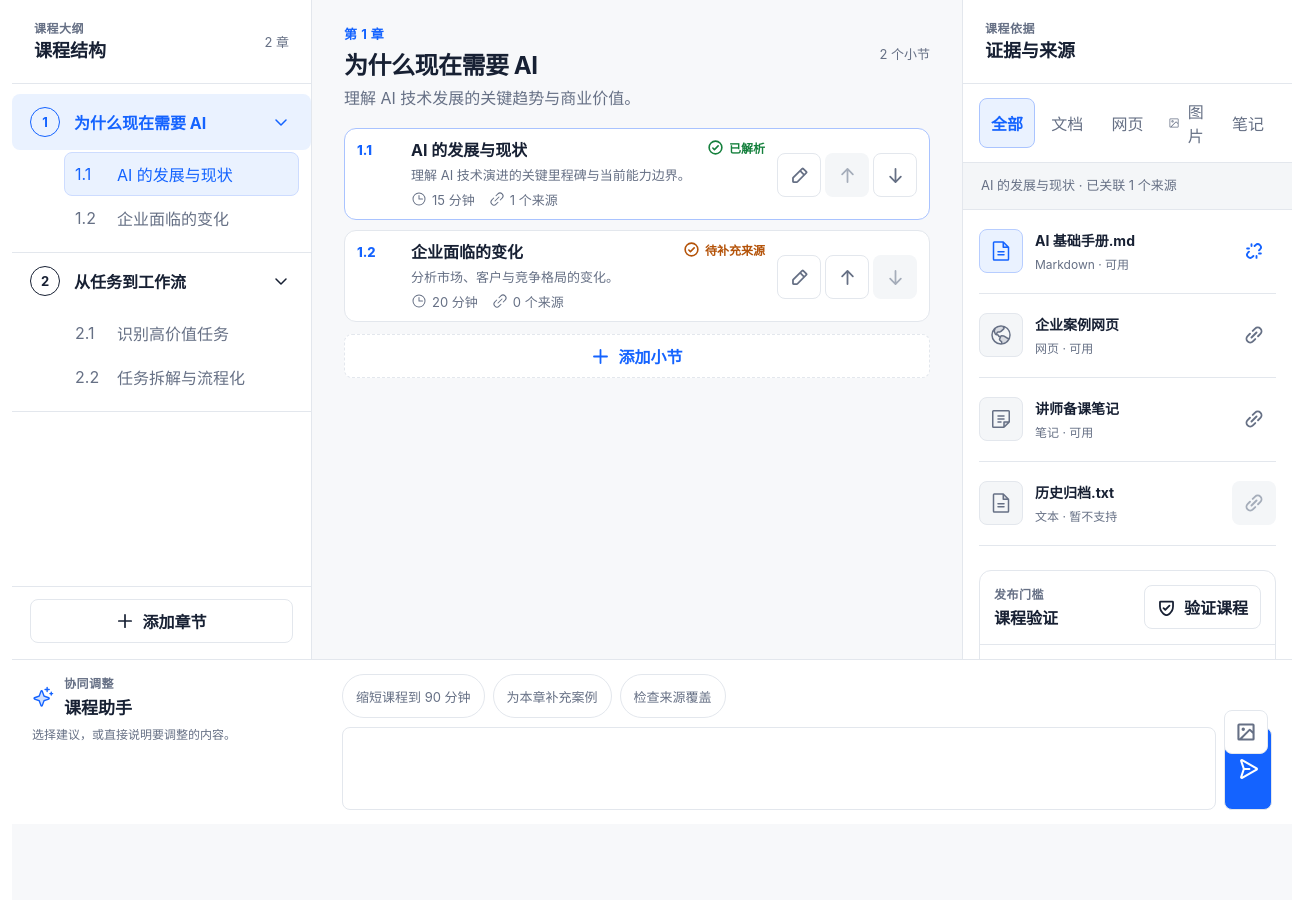
轻量课程编辑器 › preserves failed assistant input and exposes the provider failure
The width and height of the screenshot is (1292, 900).
Type "为本章补充案例" into the text box named "向课程助手说明调整需求" at (779, 768), box [342,727,1216,810]
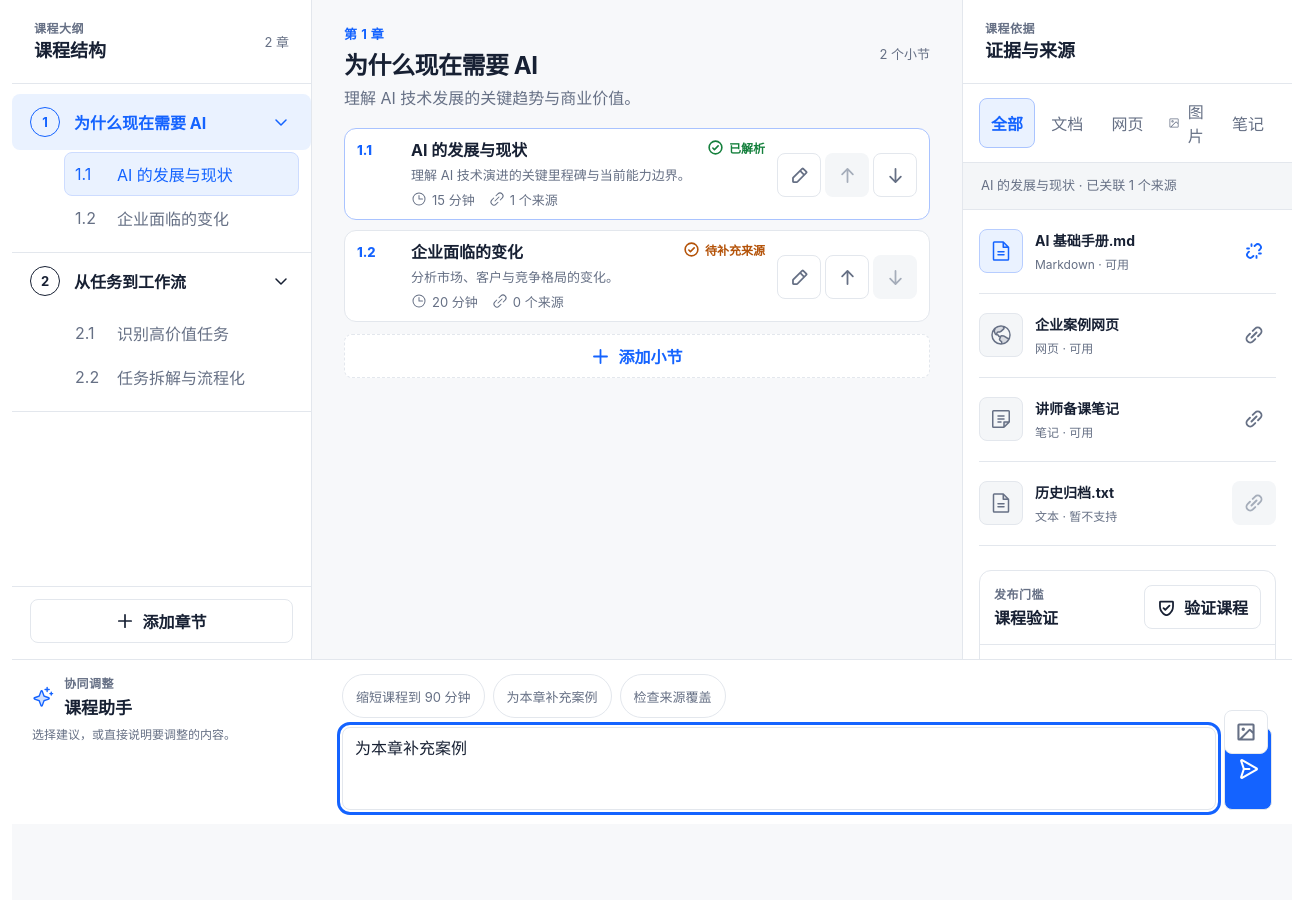
Click the button named "发送给课程助手" at (1248, 768), box [1224,727,1272,810]
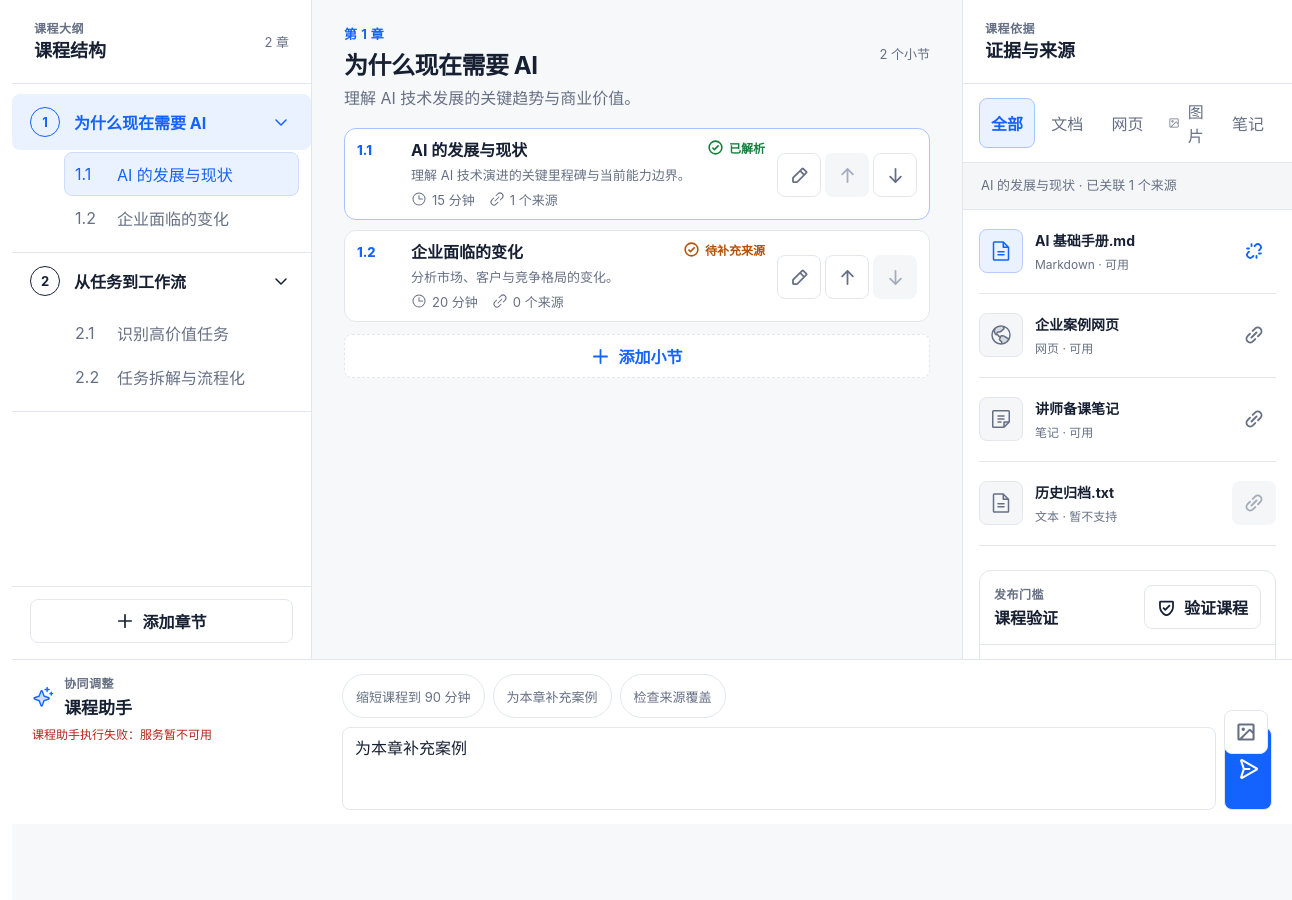
Now the message reads "课程助手执行失败：服务暂不可用", box [32,727,212,742]
